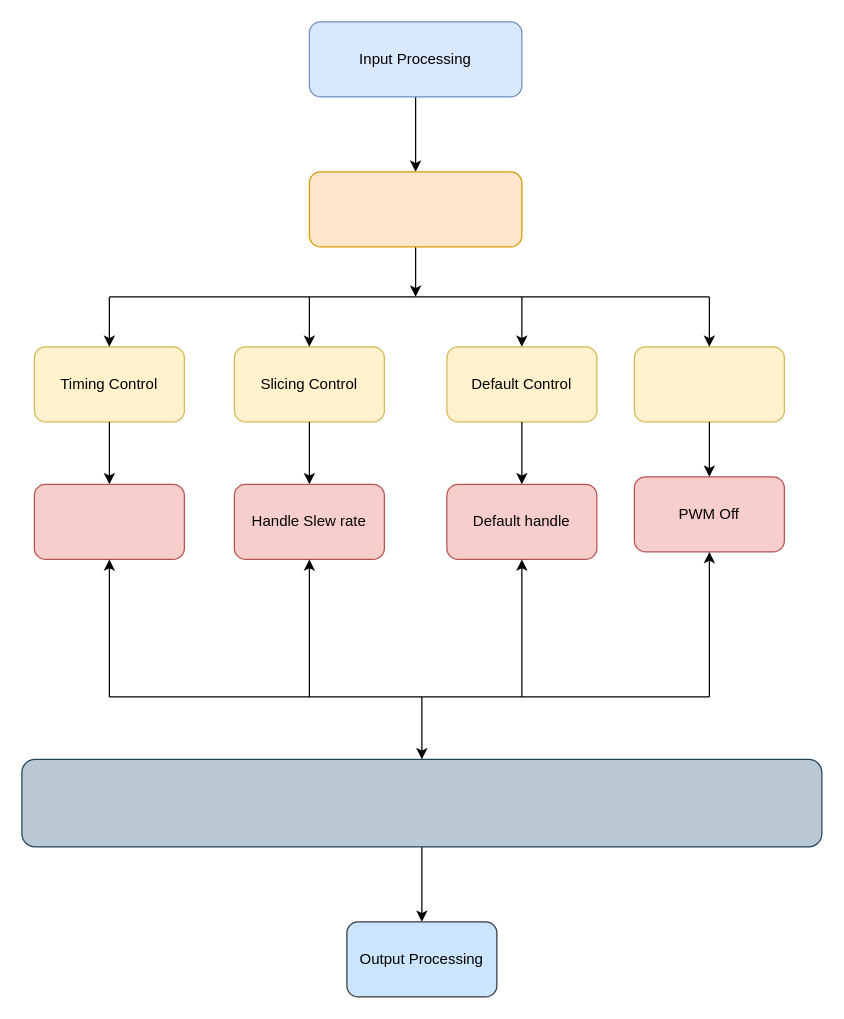
This 844x1019 diagram has some shape labels left out. Each missing label, with the centre of its shape:
"Derating Handling" belongs at (421,802).
"Handle Timer" belongs at (108,521).
"Off Control" belongs at (708,384).
"Process Control" belongs at (415,209).
